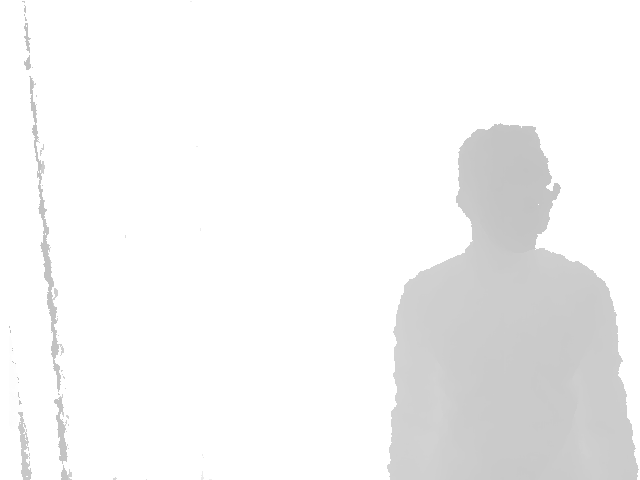head: (455, 124, 561, 250)
person: (384, 124, 640, 480)
